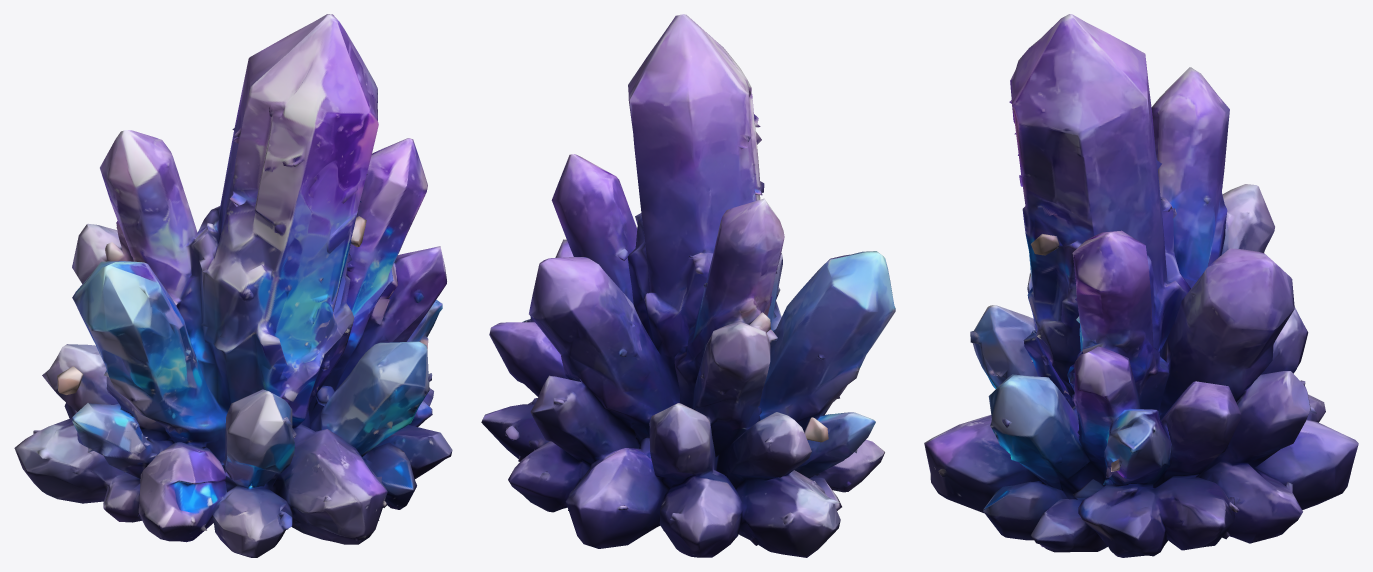
File: 10-cristal-mana.glb
3 renders of one model, left to right at view 1: azimuth 30°, elevation 25°; view 2: azimuth 150°, elevation 25°; view 3: azimuth 270°, elevation 25°, orthographic. The views are drawn at different scales.
Visible parts, largest first — view 1: tripo_node_e761ca23-9c32-45a9-b595-2495a6258540; view 2: tripo_node_e761ca23-9c32-45a9-b595-2495a6258540; view 3: tripo_node_e761ca23-9c32-45a9-b595-2495a6258540.
Boxes of the visible parts, <box> form: tripo_node_e761ca23-9c32-45a9-b595-2495a6258540: <box>14,14,452,557</box>; tripo_node_e761ca23-9c32-45a9-b595-2495a6258540: <box>481,14,895,557</box>; tripo_node_e761ca23-9c32-45a9-b595-2495a6258540: <box>924,14,1358,557</box>.
Bounding box in the file's own units: 0.815 × 1 × 0.7757.
Materials: 1 (1 with a texture image).
